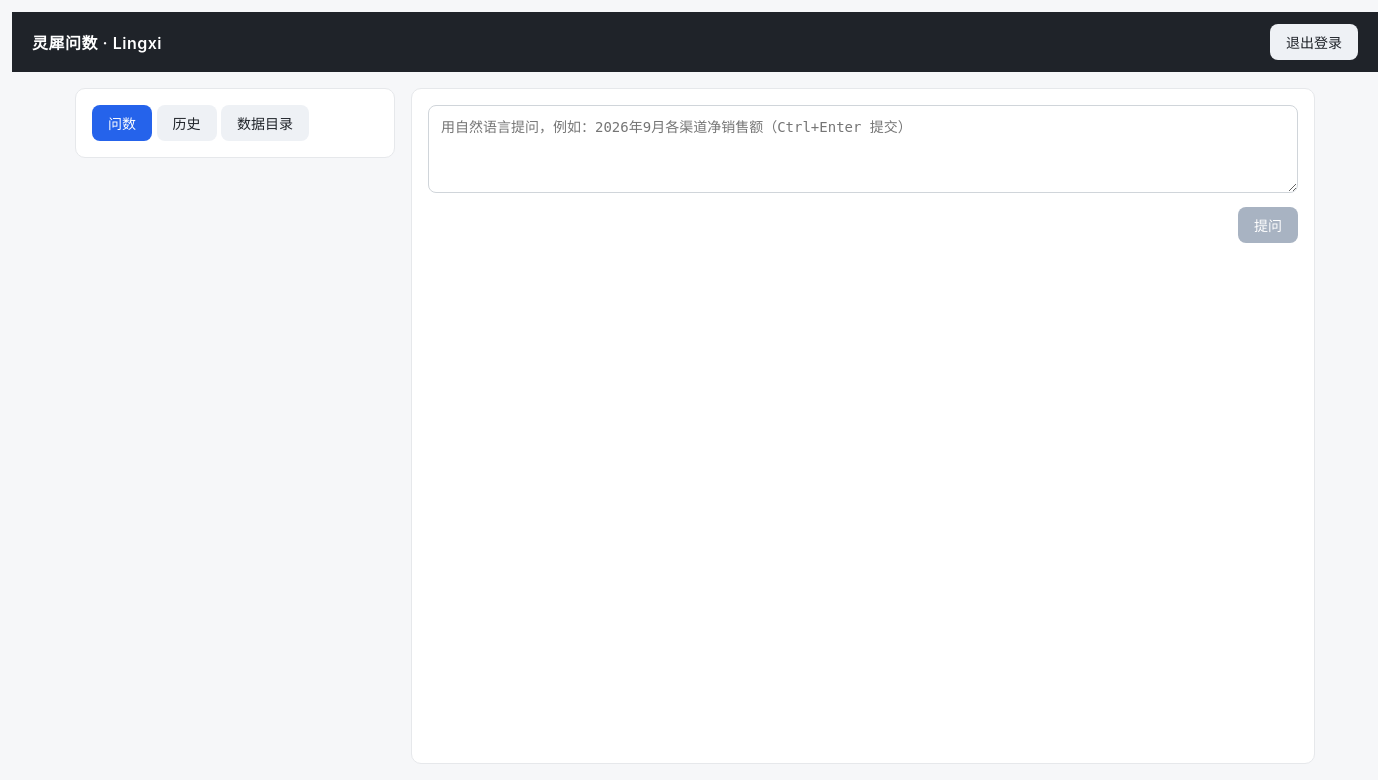
Test: 取消操作发送到同一持久任务，并展示取消状态
In the text box: point(863, 149) x1=428 y1=105 x2=1298 y2=193, type "各型号净销售额"
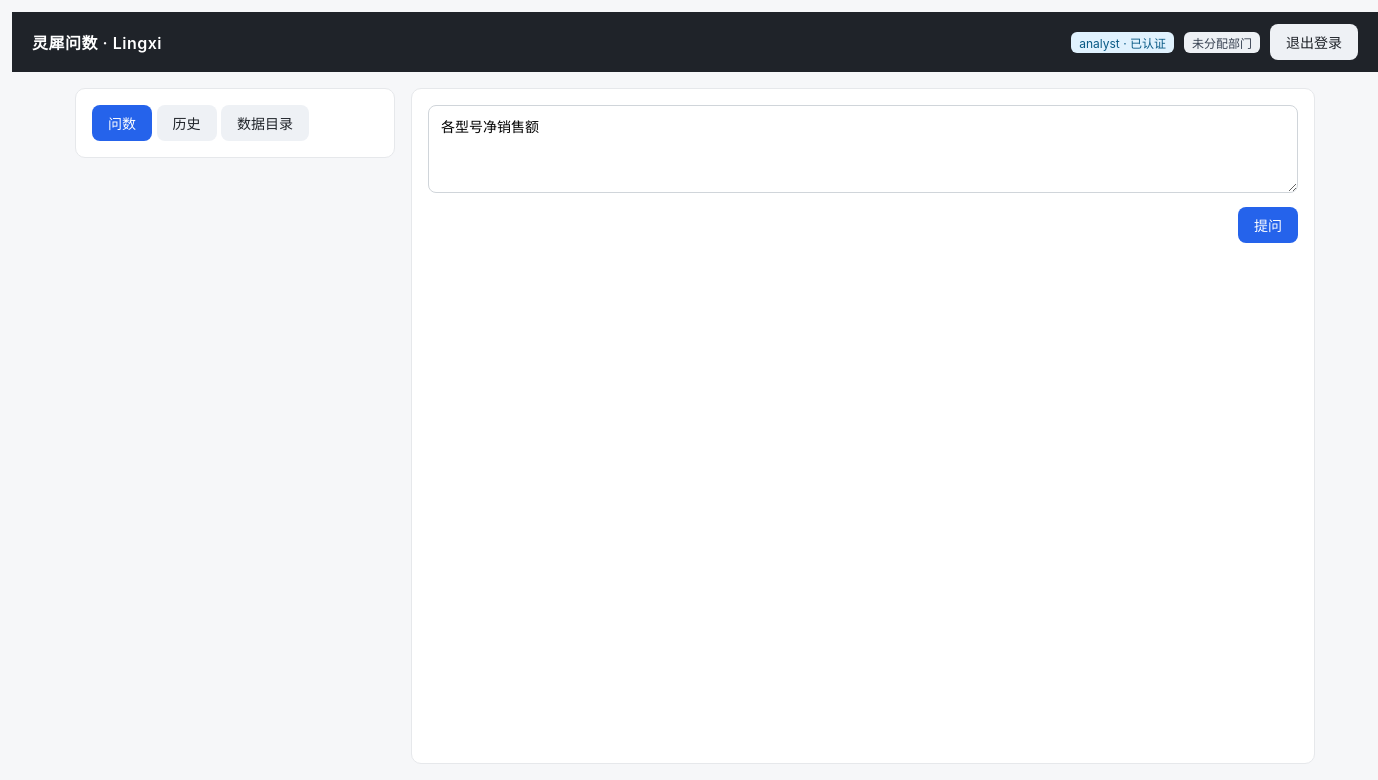
Click the button "提问": point(1268, 225) x1=1238 y1=207 x2=1298 y2=243
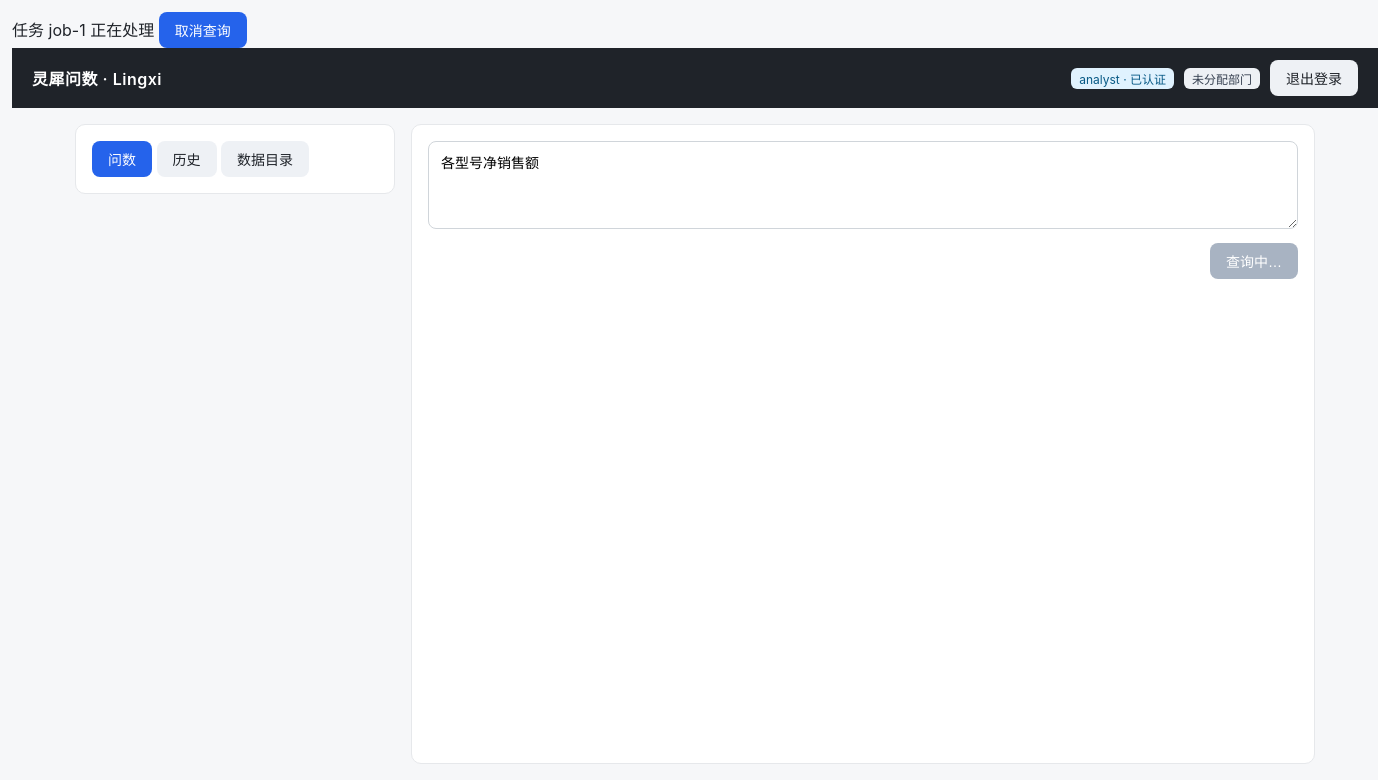
Check: the button "取消查询" is shown
Click the button "取消查询": point(203, 30) x1=159 y1=12 x2=247 y2=48
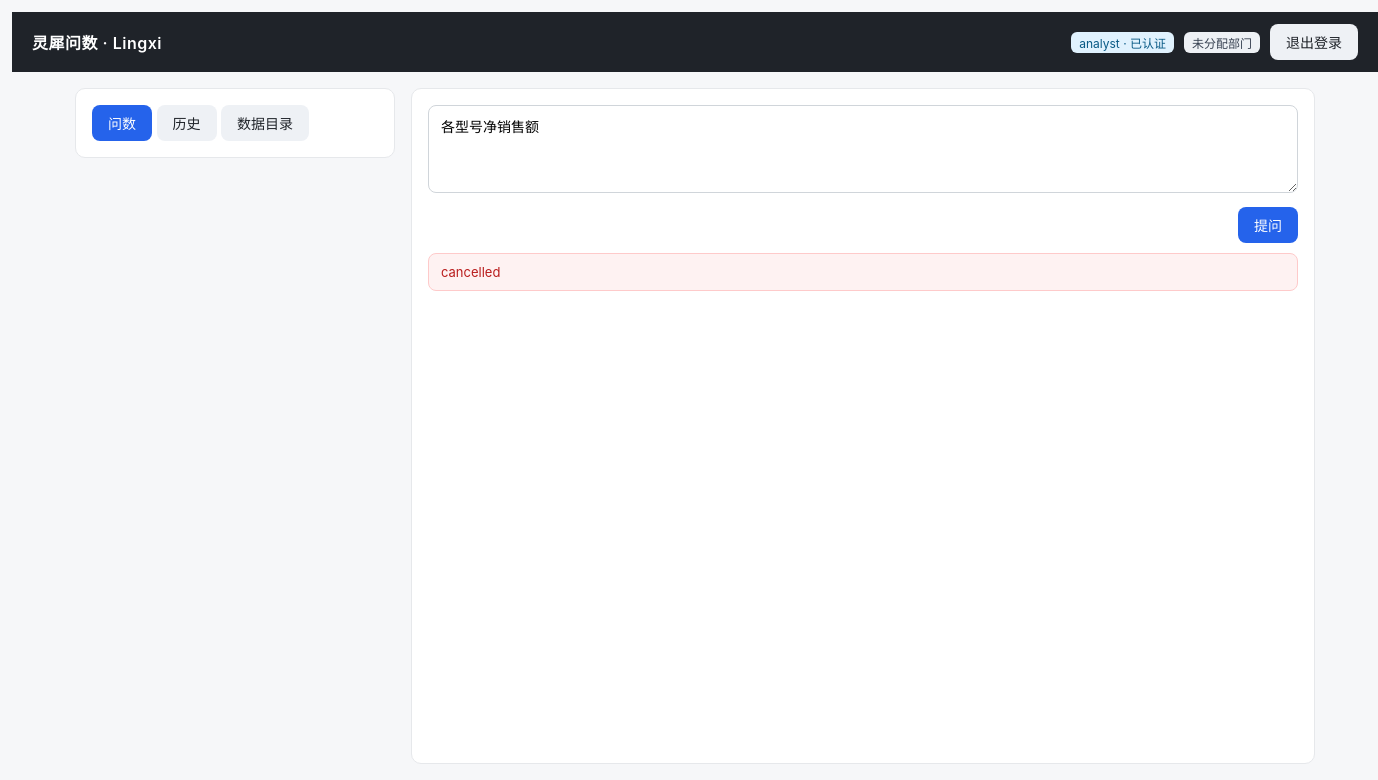
Check: the text "cancelled" is shown, box x1=428 y1=253 x2=1298 y2=291
